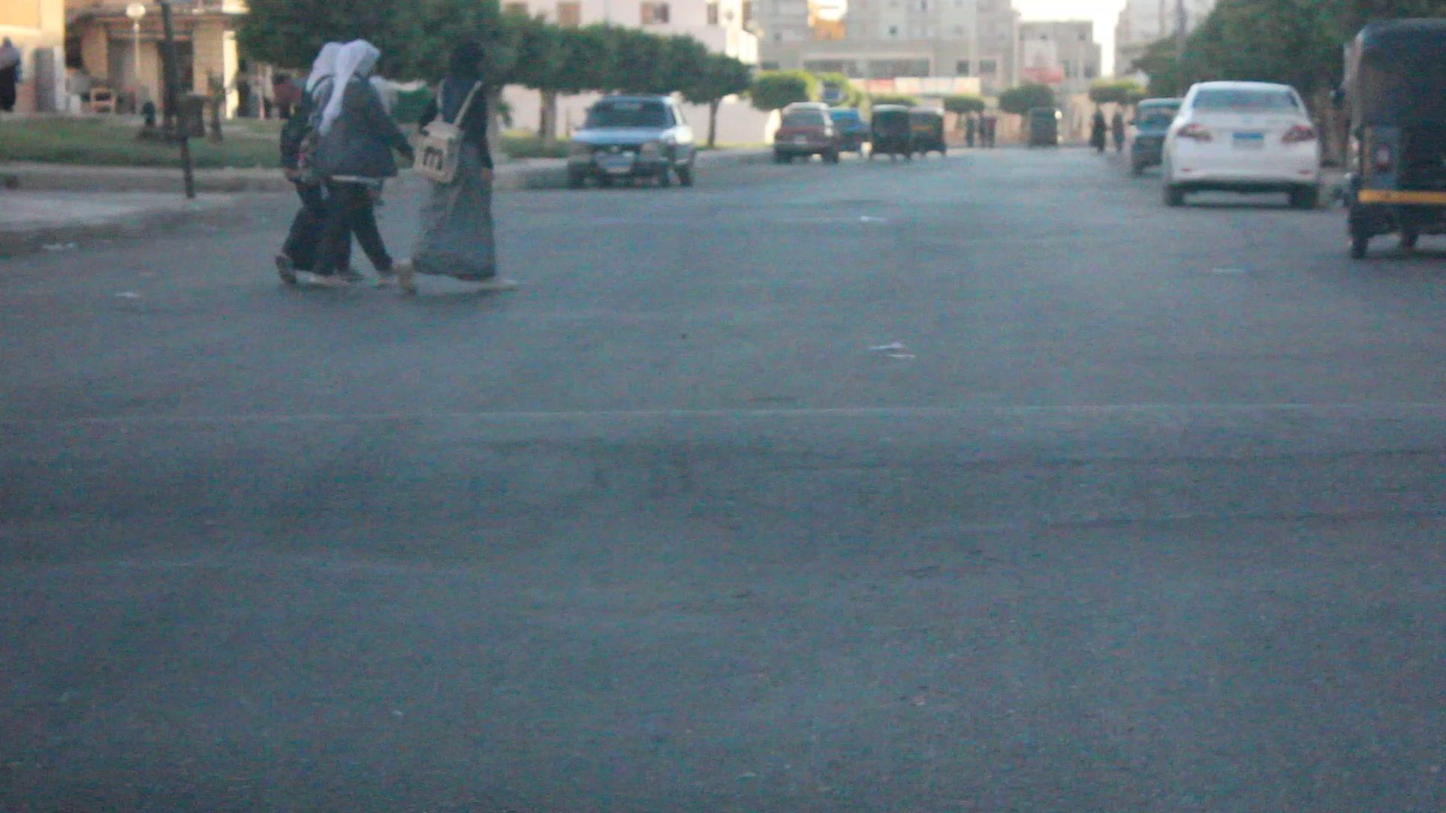Bump: (2, 398, 1445, 558)
